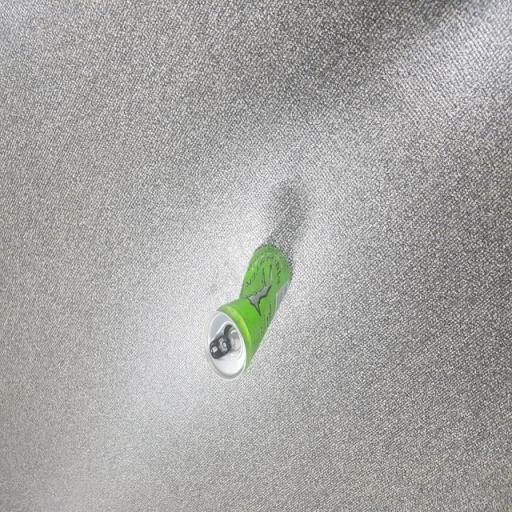metal: (197, 219, 312, 420)
